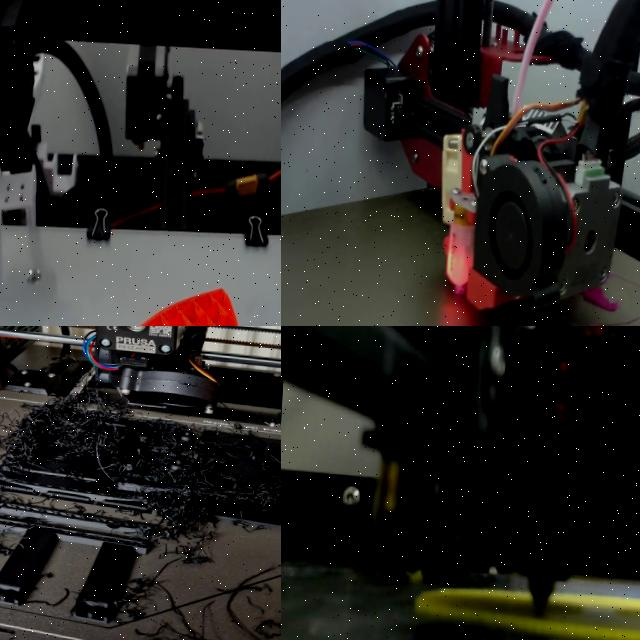spaghetti: (0, 361, 281, 640), (582, 287, 619, 311)
